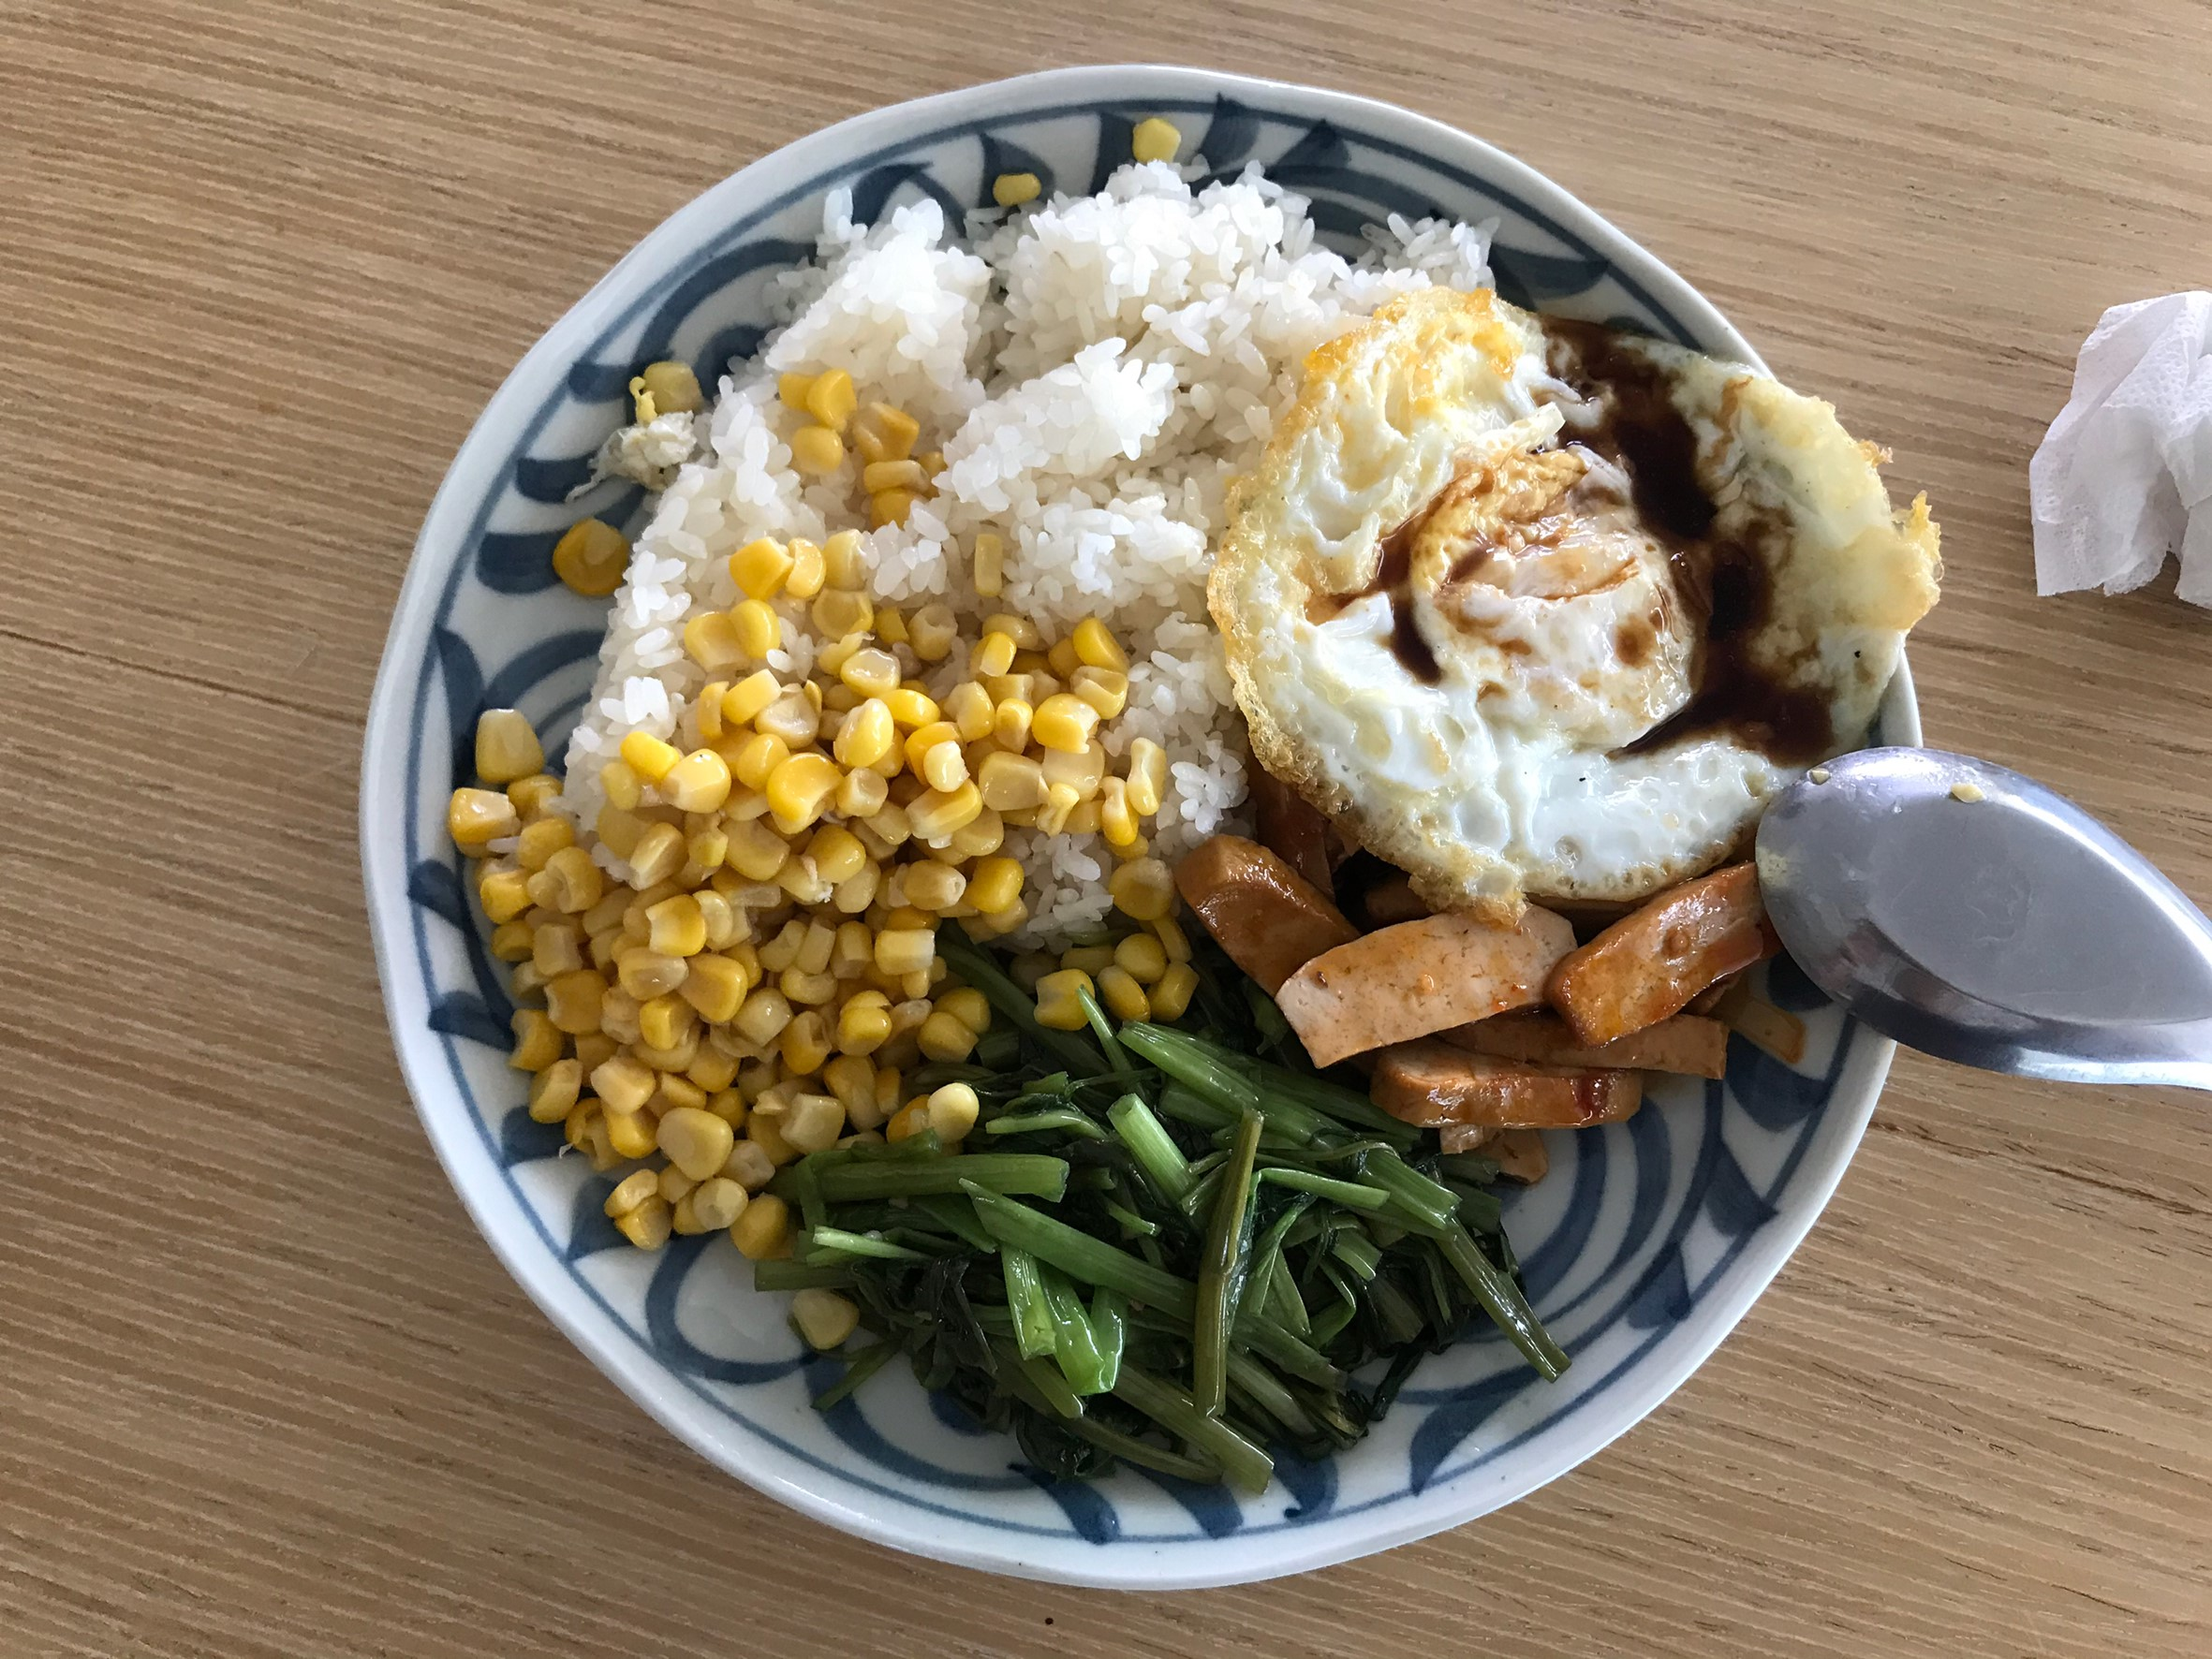fried_eggs: (1220, 293, 1942, 901)
rice: (797, 166, 1241, 577)
water_spinach: (790, 1025, 1483, 1490)
